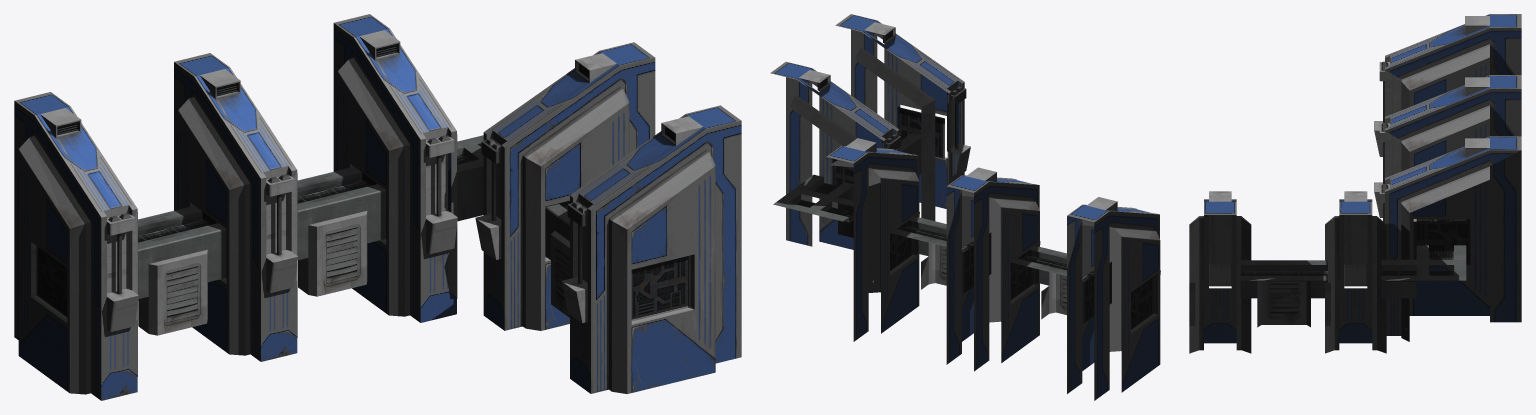
The model's file is ML2_Construct_R.FBX.
3 views of the same model, side by side, from view 1: azimuth 30°, elevation 25°; view 2: azimuth 150°, elevation 25°; view 3: azimuth 270°, elevation 25° (orthographic). The views are drawn at different scales.
Parts seen in each view (by area): view 1: ML2_Construct_R; view 2: ML2_Construct_R; view 3: ML2_Construct_R.
Part boxes in pixels (box(x1,y1,x2,y2)): ML2_Construct_R: box(14, 14, 741, 400); ML2_Construct_R: box(770, 14, 1160, 400); ML2_Construct_R: box(1189, 14, 1521, 353).
Bounding box in the file's own units: 27.65 × 11.56 × 18.72.
1 material, 1 textured.
